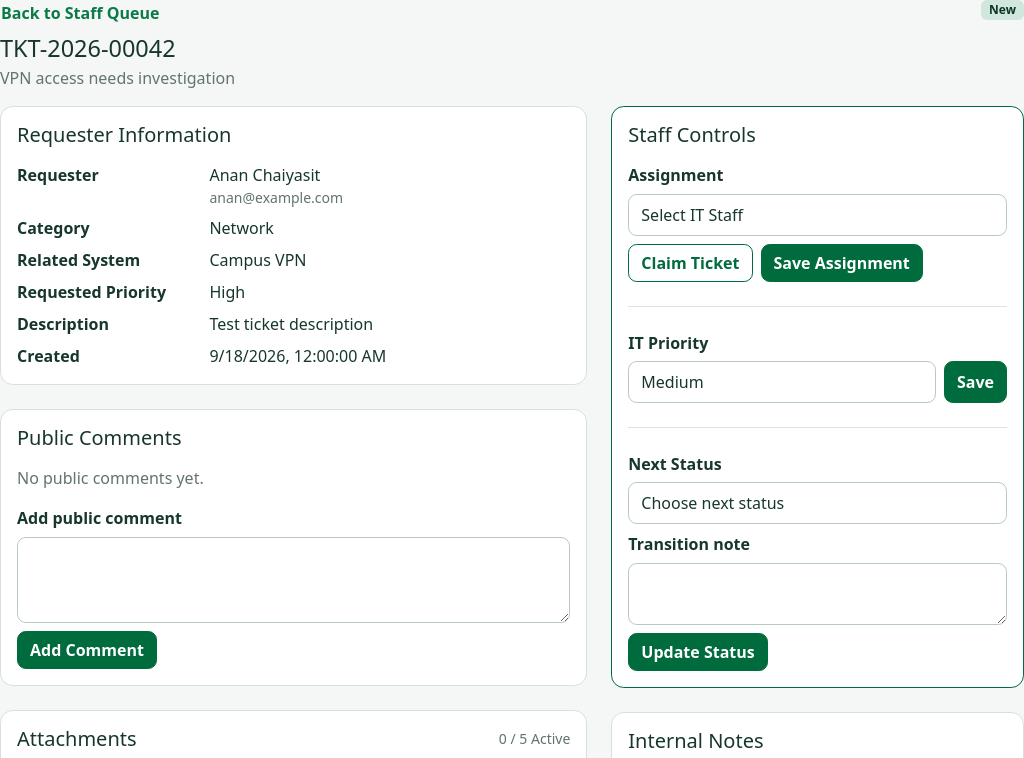
Test case: TicketWorkflow › shows a safe error and preserves the selected transition after a conflict
Expected: the heading "TKT-2026-00042" is shown, [0,32,176,64]
Select "Open" in the dropdown labelled "Next Status" at (818, 503), box [628,482,1007,524]
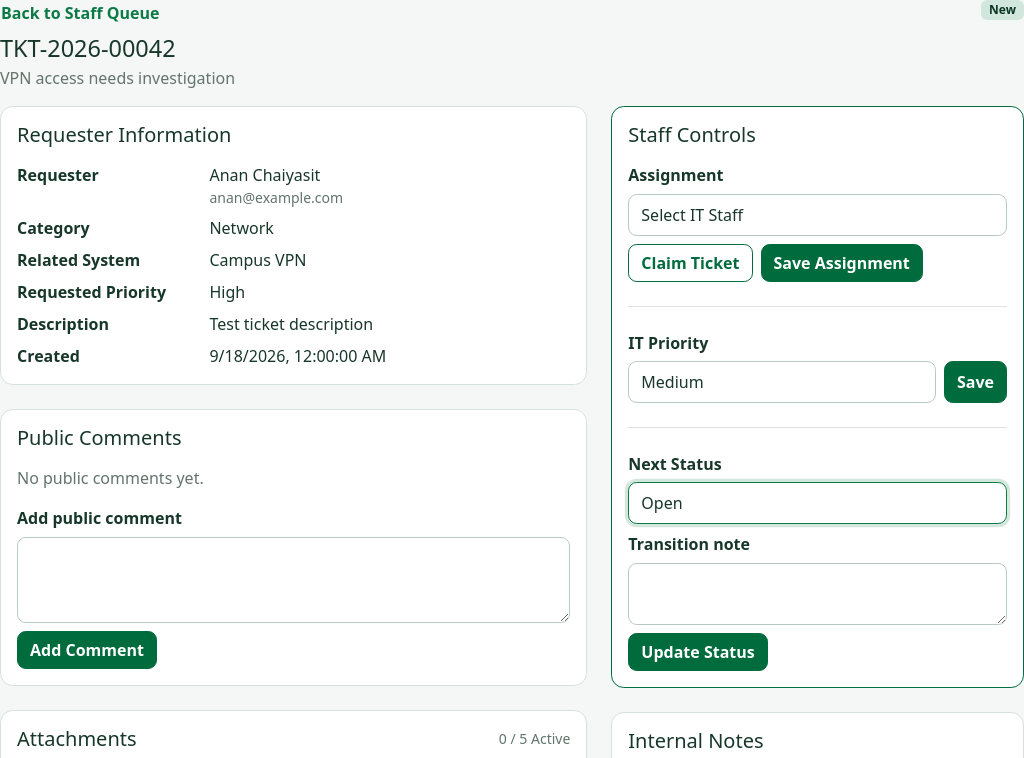
Type "Please review this update." into the text box labelled "Transition note" at (818, 594), box [628,563,1007,625]
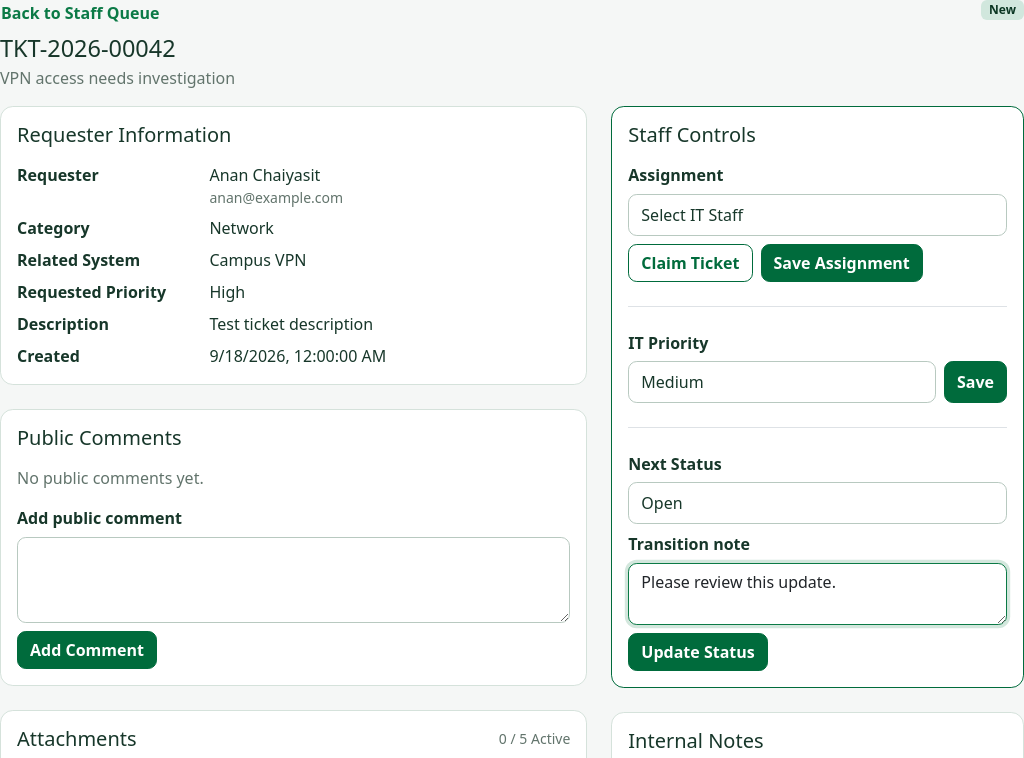
Click the button "Update Status" at (698, 652), box [628,633,768,671]
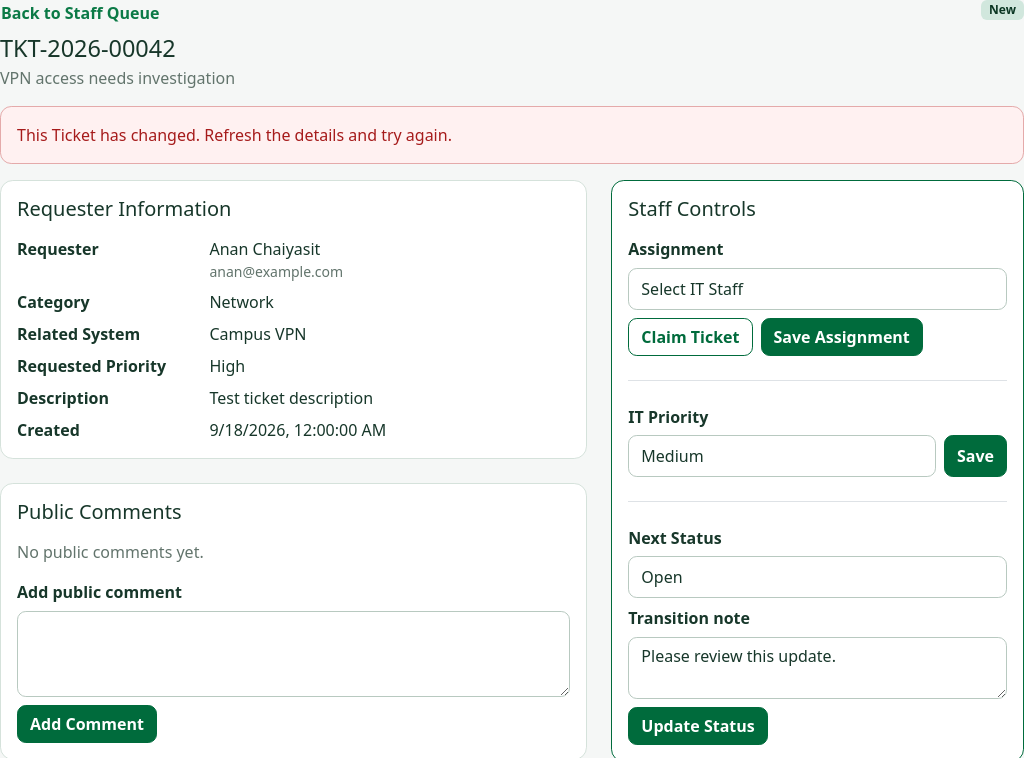
Expected: the text "This Ticket has changed. Refresh the details and try again." is shown, [0,106,1023,164]
